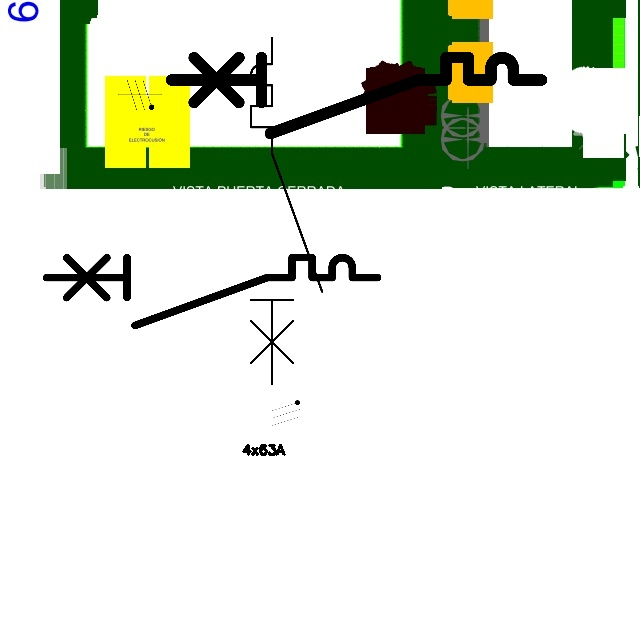interruptor_termomagnetico: (162, 48, 551, 143), (242, 29, 331, 393), (38, 249, 386, 334)
